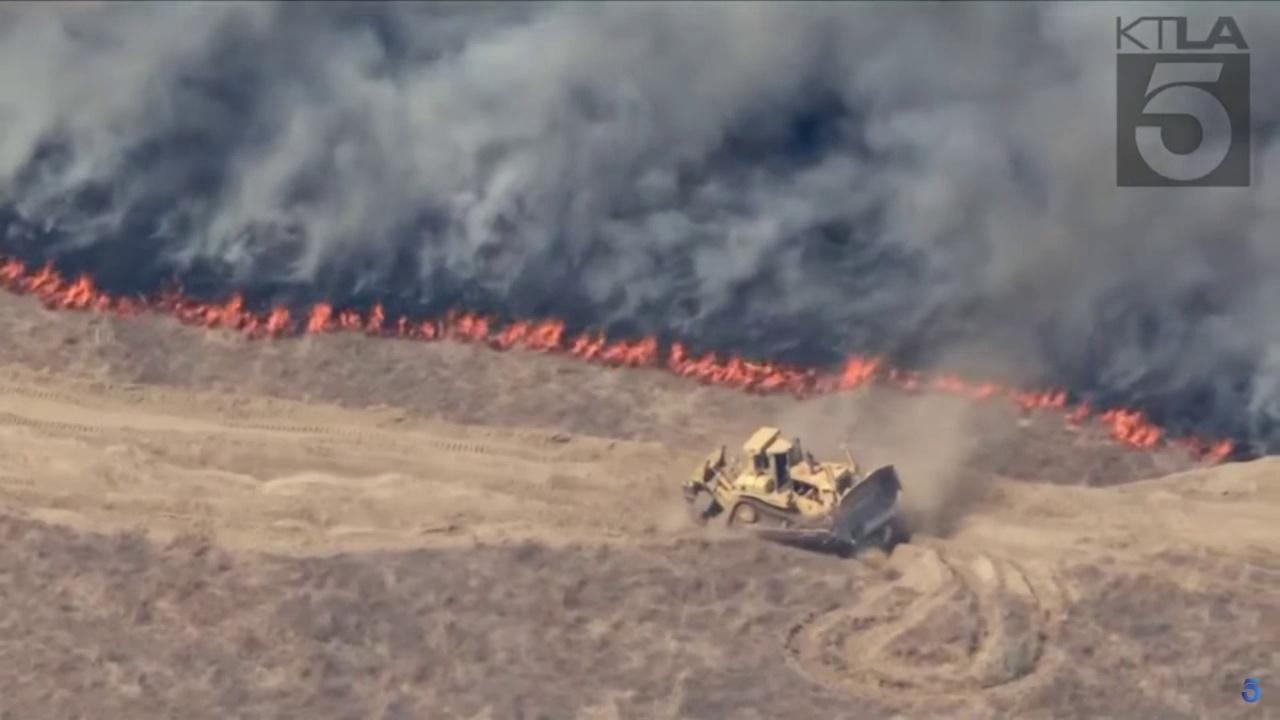fire: (0, 252, 1068, 412), (1067, 394, 1235, 467)
smoke: (0, 0, 1280, 460)
